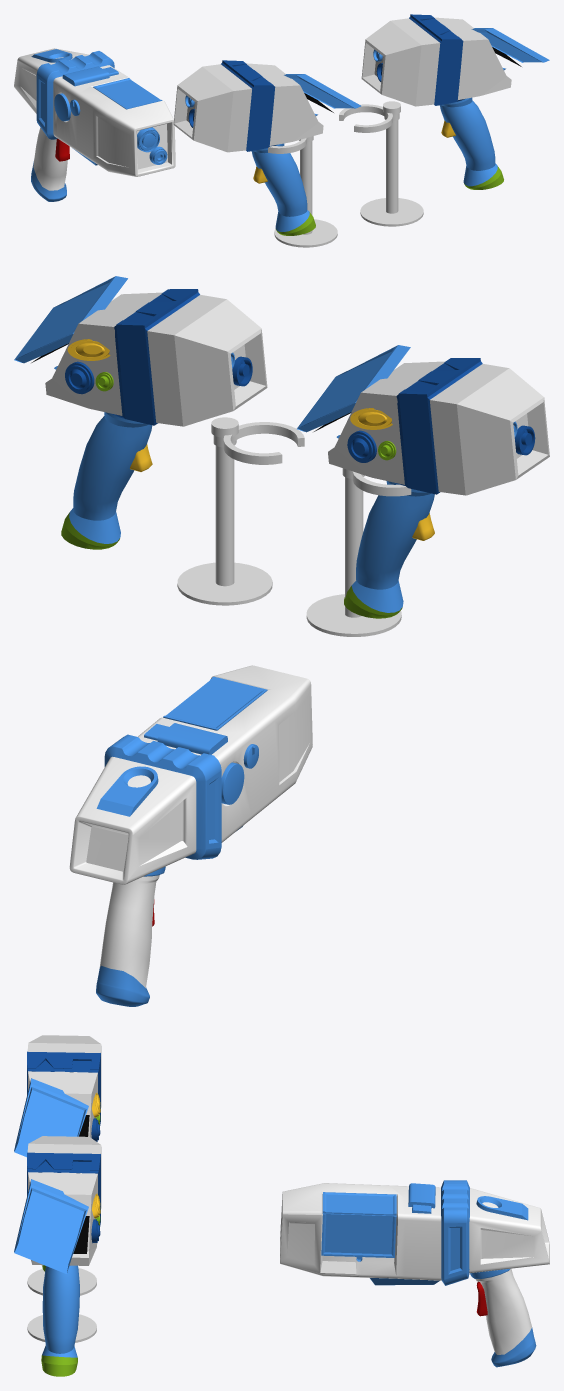
The model's file is scanner leo.fbx.
The picture shows the model from 3 angles, top to bottom: view 1: azimuth 30°, elevation 25°; view 2: azimuth 150°, elevation 25°; view 3: azimuth 270°, elevation 25°; orthographic projection. The views are drawn at different scales.
Parts seen in each view (by area): view 1: Scanner, Cube.003, Cube, Cylinder.025, Cylinder, Cube.002, Cube.001, Cylinder.011, Cylinder.013, Cylinder.017, ScreenLeft, ScreenRight.002 (+4 smaller); view 2: Scanner, Cube.003, Cube, Cylinder.025, Cylinder, Cylinder.011, Cube.002, Cube.001, ScreenRight.001, ScreenRight.002, ScreenLeft, Cylinder.013 (+2 smaller); view 3: Scanner, ScreenRight.001, Cube.003, ScreenRight.002, ScreenRight, Cylinder.025, Cube, ScreenLeft, Cube.002, Cube.001, Cylinder.013, Cylinder.011 (+1 smaller).
Part boxes in pixels (box(x1,y1,x2,y2)): Scanner: box(14, 48, 175, 201); Cube.003: box(361, 17, 511, 106); Cube: box(173, 63, 323, 152); Cylinder.025: box(439, 97, 497, 186); Cylinder: box(251, 143, 309, 231); Cube.002: box(409, 14, 463, 105); Cube.001: box(221, 60, 275, 151); Cylinder.011: box(268, 136, 337, 247); Cylinder.013: box(360, 198, 423, 226); Cylinder.017: box(386, 120, 398, 213); ScreenLeft: box(93, 78, 162, 109); ScreenRight.002: box(284, 74, 361, 108); Scanner: box(69, 665, 312, 1006); Cube.003: box(45, 292, 267, 426); Cube: box(328, 361, 549, 495); Cylinder.025: box(69, 412, 152, 543); Cylinder: box(351, 481, 434, 612); Cylinder.011: box(306, 468, 411, 636); Cube.002: box(114, 289, 199, 425); Cube.001: box(396, 358, 482, 494); ScreenRight.001: box(14, 276, 127, 363); ScreenRight.002: box(297, 345, 410, 432); ScreenLeft: box(163, 676, 267, 730); Cylinder.013: box(177, 562, 272, 605); Scanner: box(280, 1180, 549, 1367); ScreenRight.001: box(14, 1179, 88, 1273); Cube.003: box(27, 1136, 101, 1265); ScreenRight.002: box(14, 1078, 88, 1157); ScreenRight: box(321, 1213, 396, 1257); Cylinder.025: box(42, 1265, 79, 1357); Cube: box(27, 1035, 101, 1137); ScreenLeft: box(322, 1192, 396, 1215); Cube.002: box(27, 1152, 100, 1226); Cube.001: box(27, 1051, 100, 1125); Cylinder.013: box(27, 1314, 96, 1342); Cylinder.011: box(27, 1268, 96, 1295).
Bounding box in the file's own units: 46.58 × 35.43 × 56.83.
